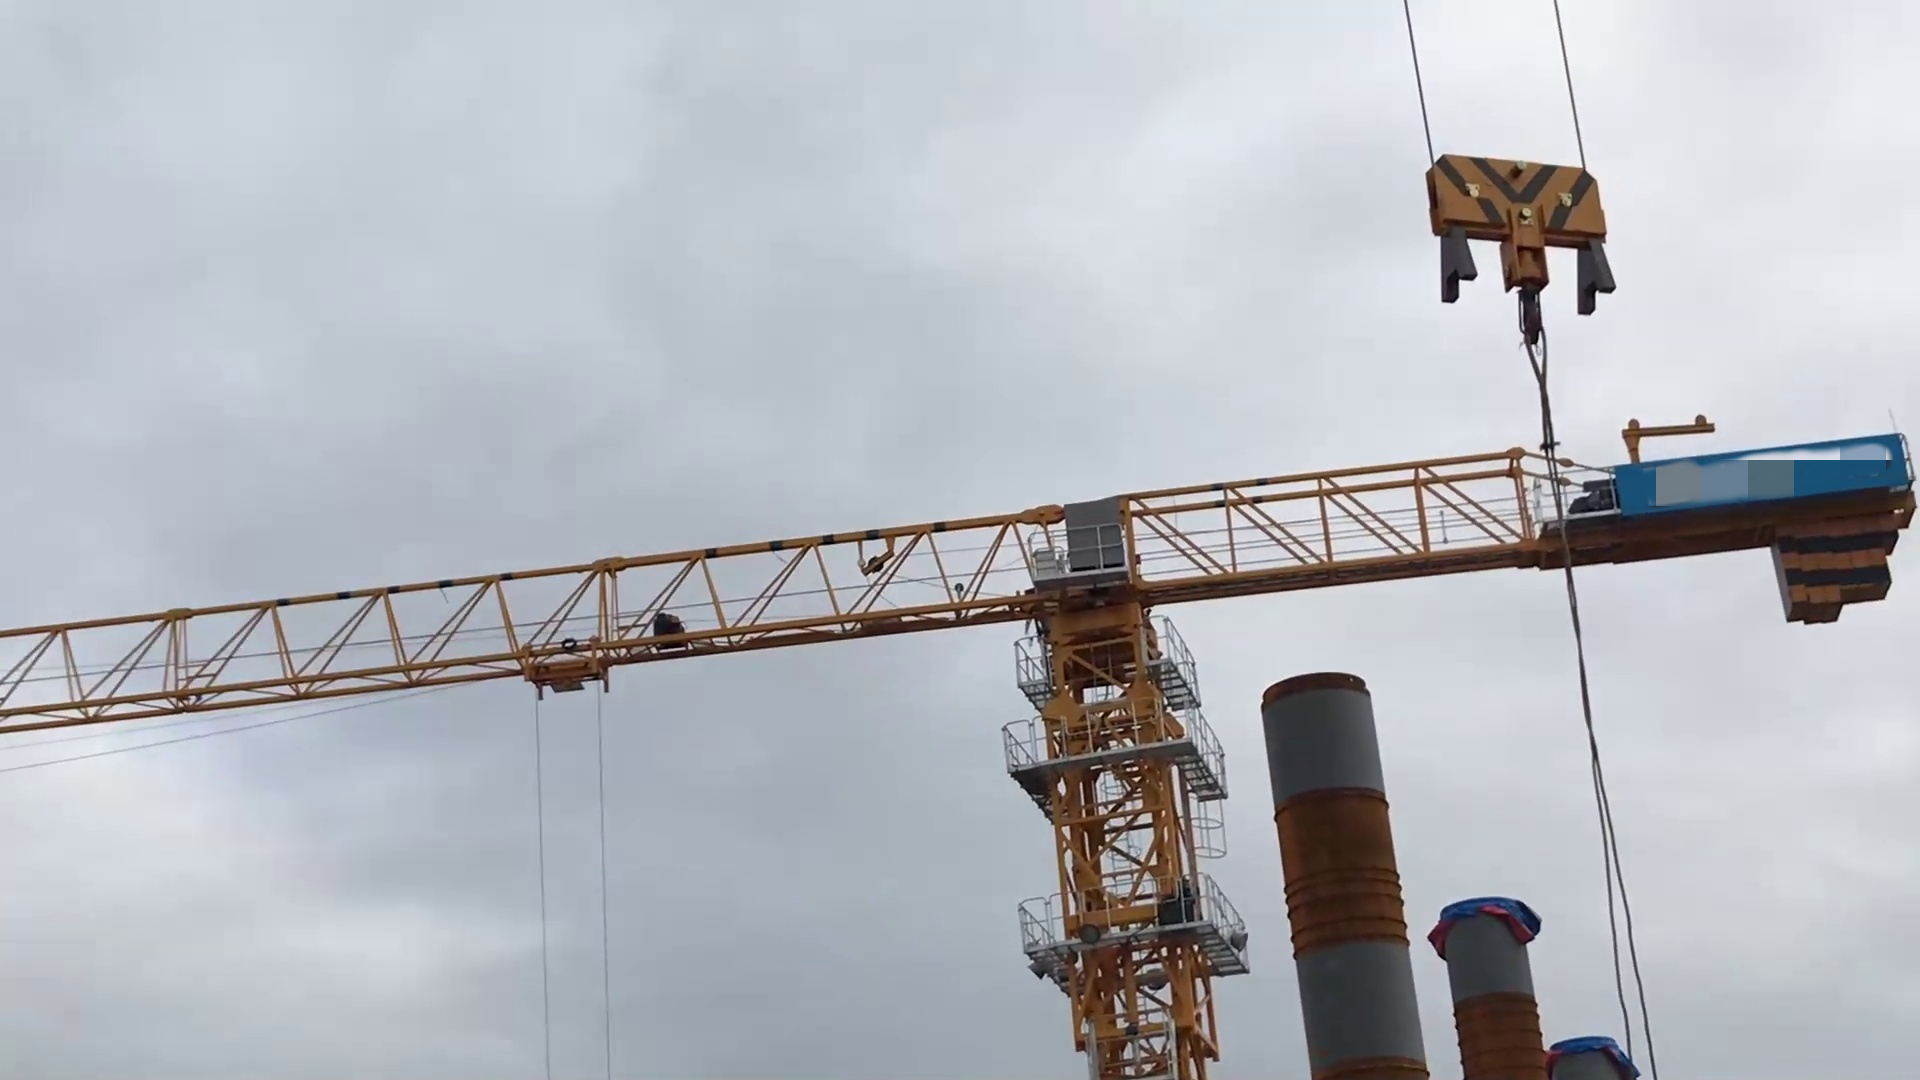hook: (1414, 145, 1629, 356)
